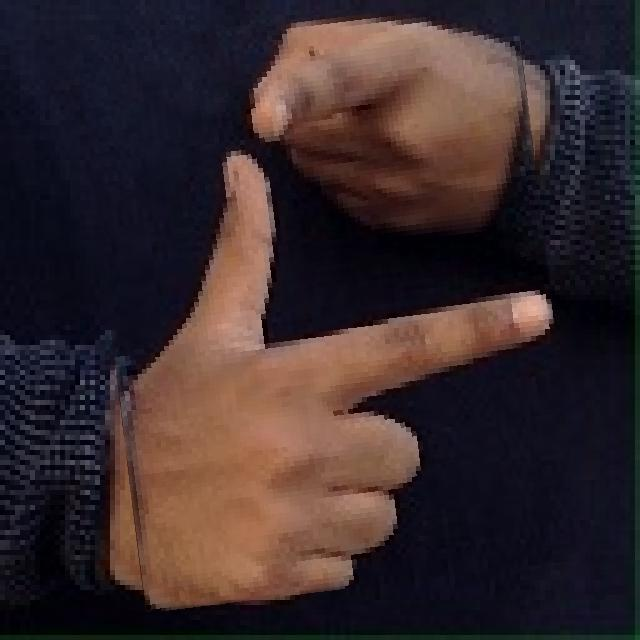J: (93, 4, 567, 600)
